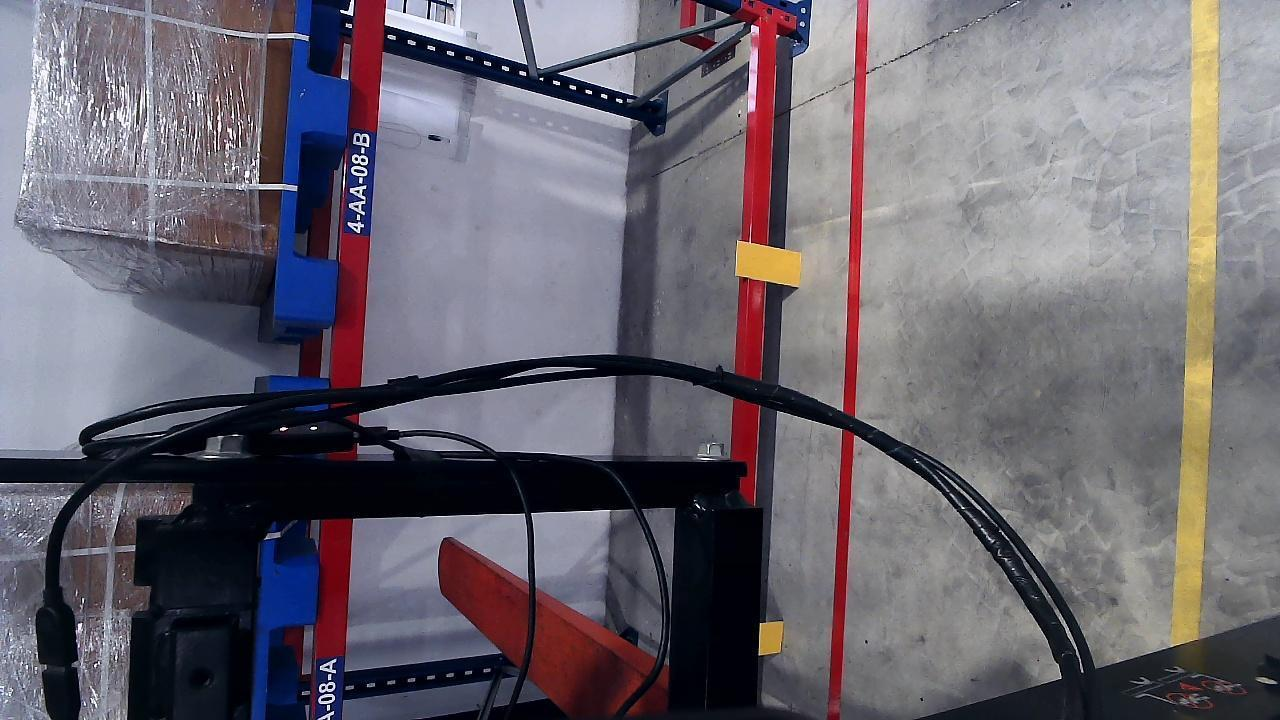red_line: (828, 4, 868, 720)
yellow_line: (1168, 0, 1220, 641)
